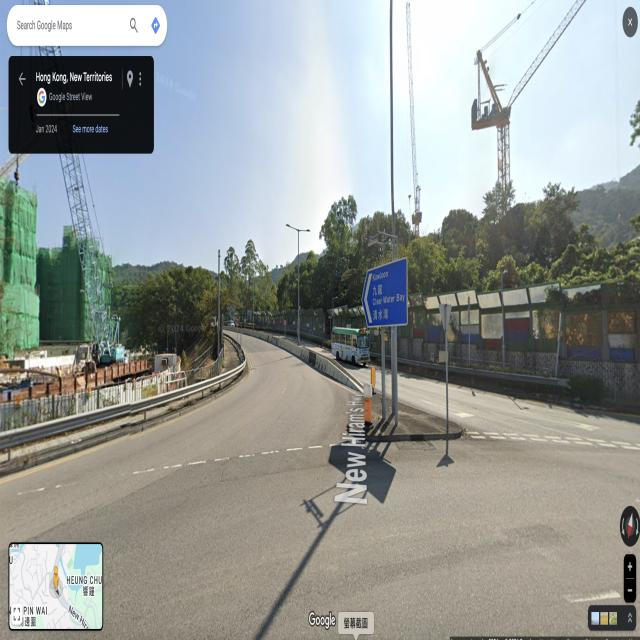Direction-Sign: (361, 259, 408, 329)
Order-Sign: (235, 318, 240, 327), (284, 319, 286, 325)
